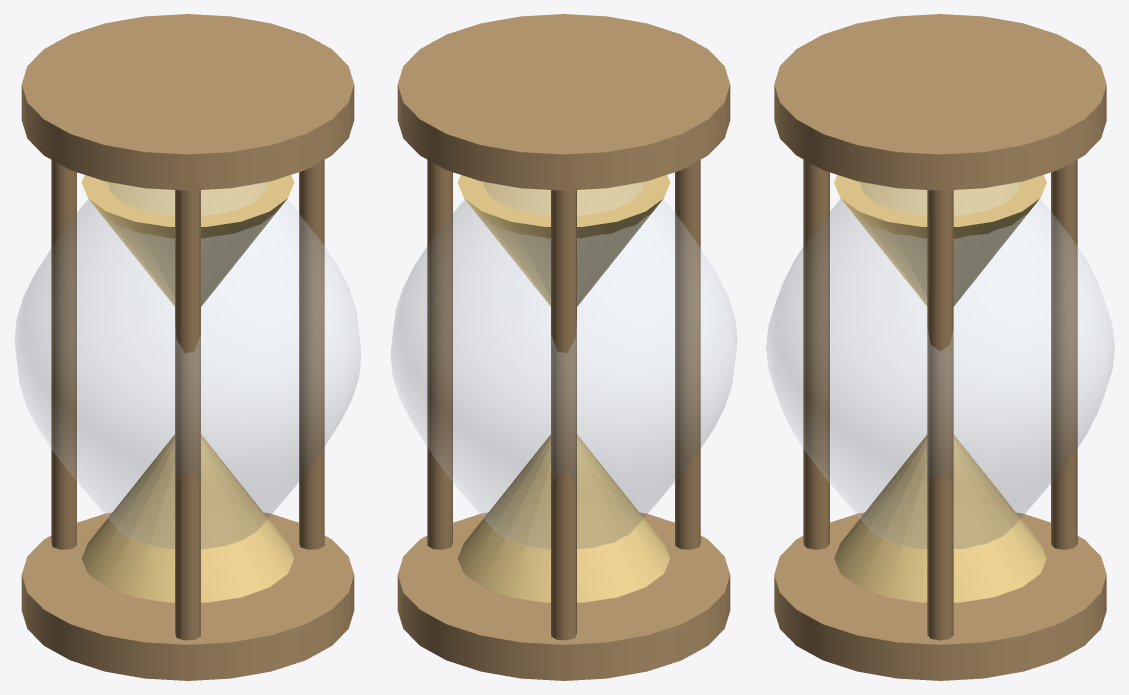
File: hourglass.glb
3 views of the same model, side by side, from view 1: azimuth 30°, elevation 25°; view 2: azimuth 150°, elevation 25°; view 3: azimuth 270°, elevation 25° (orthographic).
Visible parts, largest first — view 1: frame, glass, sandBottom, sandTop; view 2: frame, glass, sandBottom, sandTop; view 3: frame, glass, sandBottom, sandTop.
Part boxes in pixels (left/top/right/bottom): frame: left=21, top=14, right=354, bottom=680; glass: left=15, top=182, right=360, bottom=549; sandBottom: left=81, top=434, right=294, bottom=602; sandTop: left=81, top=175, right=294, bottom=306; frame: left=397, top=14, right=730, bottom=680; glass: left=391, top=182, right=736, bottom=549; sandBottom: left=457, top=434, right=670, bottom=602; sandTop: left=457, top=175, right=670, bottom=306; frame: left=774, top=14, right=1106, bottom=680; glass: left=766, top=182, right=1114, bottom=548; sandBottom: left=834, top=435, right=1046, bottom=602; sandTop: left=834, top=175, right=1046, bottom=306.
Size of the model in its own units: 0.1574 by 0.262 by 0.1574.
